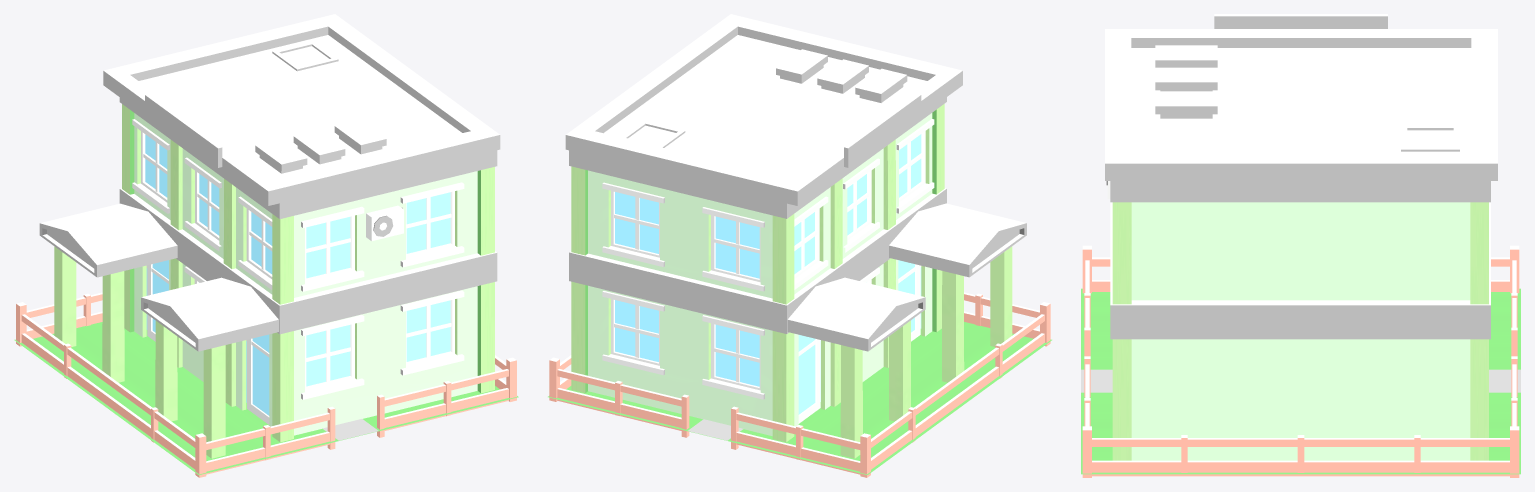
3 renders of one model, left to right at view 1: azimuth 30°, elevation 25°; view 2: azimuth 150°, elevation 25°; view 3: azimuth 270°, elevation 25°, orthographic. The views are drawn at different scales.
Parts seen in each view (by area): view 1: bank.009 (1), tile_for_home_1x1.002 (14); view 2: bank.009 (1), tile_for_home_1x1.002 (14); view 3: bank.009 (1), tile_for_home_1x1.002 (14).
Boxes of the visible parts, x1,y1,x2,y2 form: bank.009 (1): (39,14,500,458); tile_for_home_1x1.002 (14): (14,292,518,477); bank.009 (1): (565,14,1026,458); tile_for_home_1x1.002 (14): (548,292,1051,477); bank.009 (1): (1105,14,1497,460); tile_for_home_1x1.002 (14): (1081,245,1520,477).
Bounding box in the file's own units: 8 × 6.58 × 8.
1 material, 1 textured.
